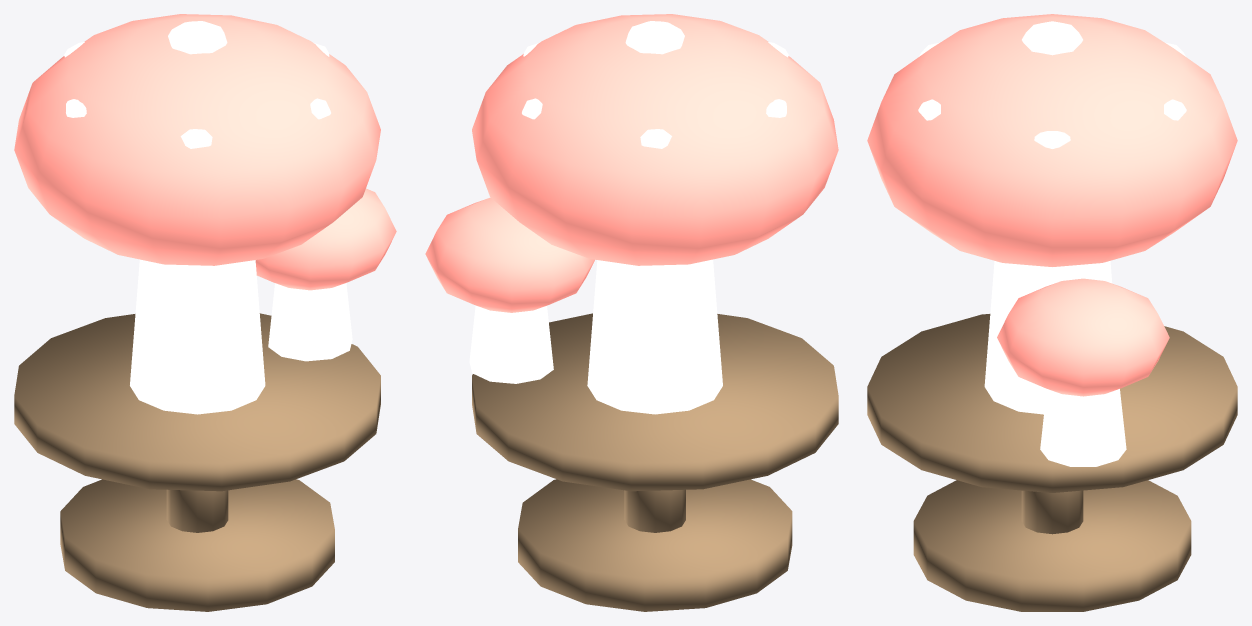
File: home_sv_mushroom_v01.glb
3 views of the same model, side by side, from view 1: azimuth 30°, elevation 25°; view 2: azimuth 150°, elevation 25°; view 3: azimuth 270°, elevation 25° (orthographic).
Visible parts, largest first — view 1: home_sv_mushroom_v01; view 2: home_sv_mushroom_v01; view 3: home_sv_mushroom_v01.
Boxes of the visible parts, x1,y1,x2,y2 form: home_sv_mushroom_v01: [14, 14, 396, 611]; home_sv_mushroom_v01: [425, 14, 838, 611]; home_sv_mushroom_v01: [867, 14, 1237, 611].
Bounding box in the file's own units: 0.68 × 0.945 × 0.6.
